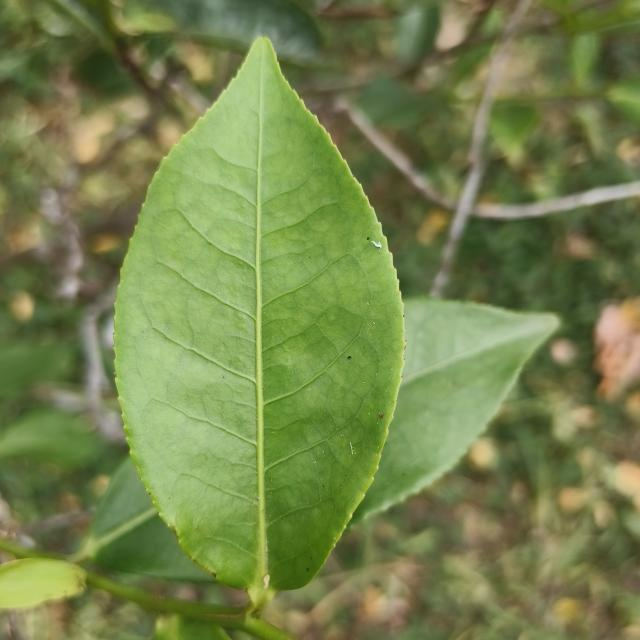Leaf: (115, 39, 404, 606), (349, 298, 558, 524), (87, 458, 208, 581), (123, 0, 320, 64), (0, 409, 106, 468), (0, 558, 86, 608)
